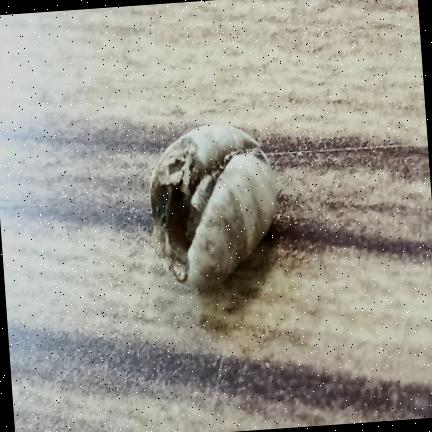cut: (150, 125, 276, 286)
